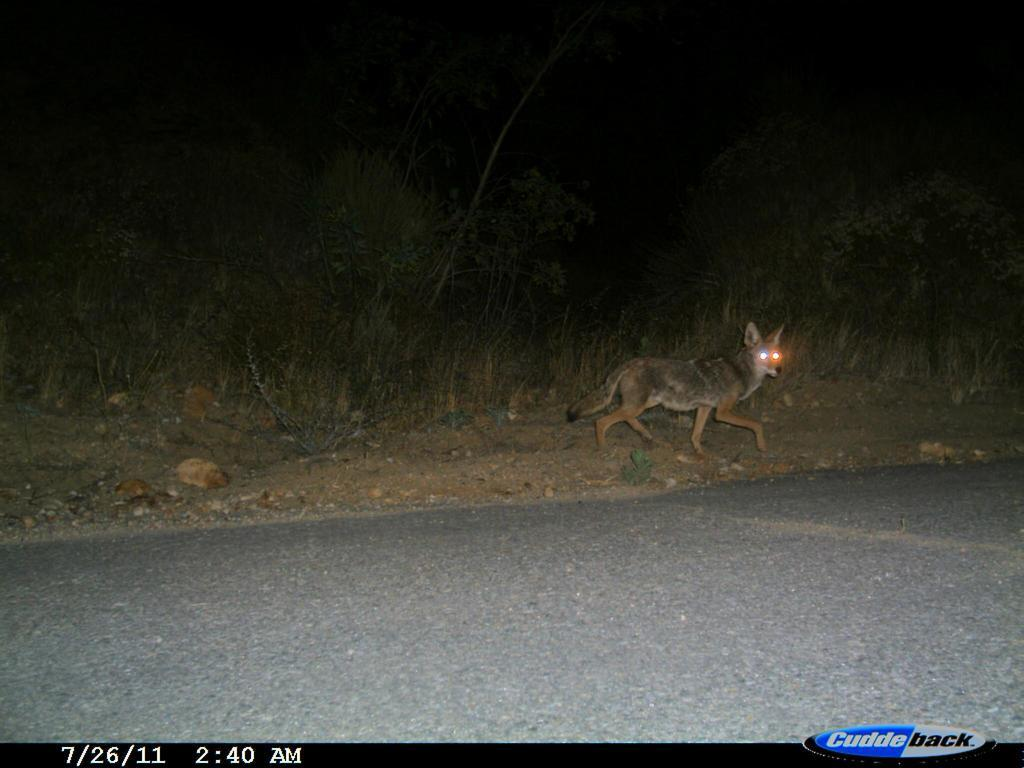coyote: (565, 318, 799, 468)
